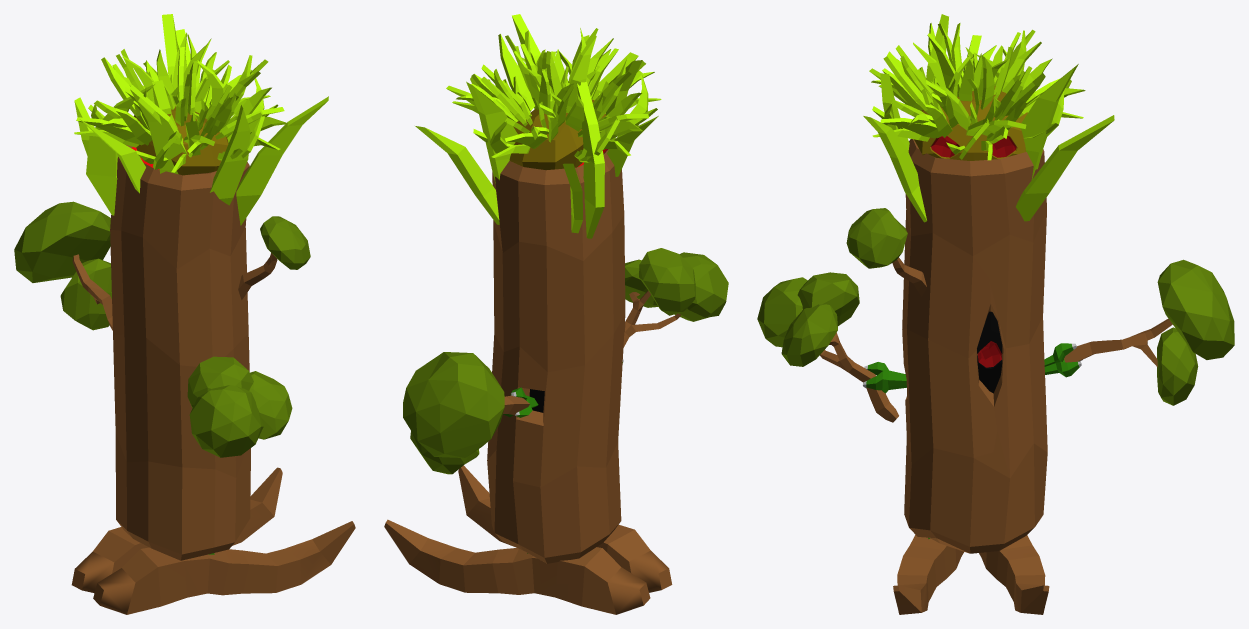
File: Enemy_Giant.fbx
The picture shows the model from 3 angles, left to right: view 1: azimuth 30°, elevation 25°; view 2: azimuth 150°, elevation 25°; view 3: azimuth 270°, elevation 25°; orthographic projection.
Visible parts, largest first — view 1: Enemy_Giant; view 2: Enemy_Giant; view 3: Enemy_Giant.
Boxes of the visible parts, <box> form: Enemy_Giant: <box>14,14,355,614</box>; Enemy_Giant: <box>384,14,728,614</box>; Enemy_Giant: <box>757,14,1234,614</box>.
Bounding box in the file's own units: 376 × 655 × 807.
1 material, 1 textured.
